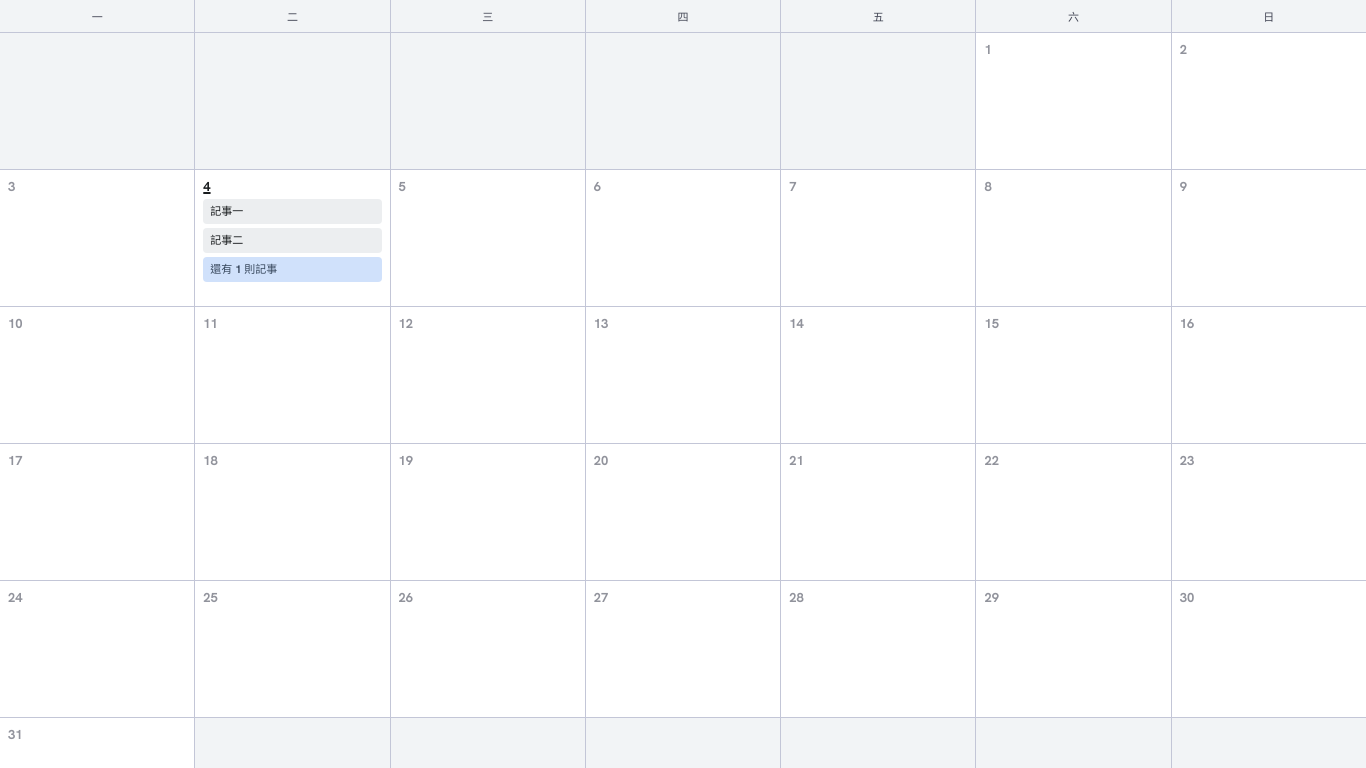
it: 溢出記事清單按鈕具備 title 提示與專屬標題類別以支援文字換行
Click the button "還有 1 則記事". click: (292, 269)
box: [203,257,382,282]
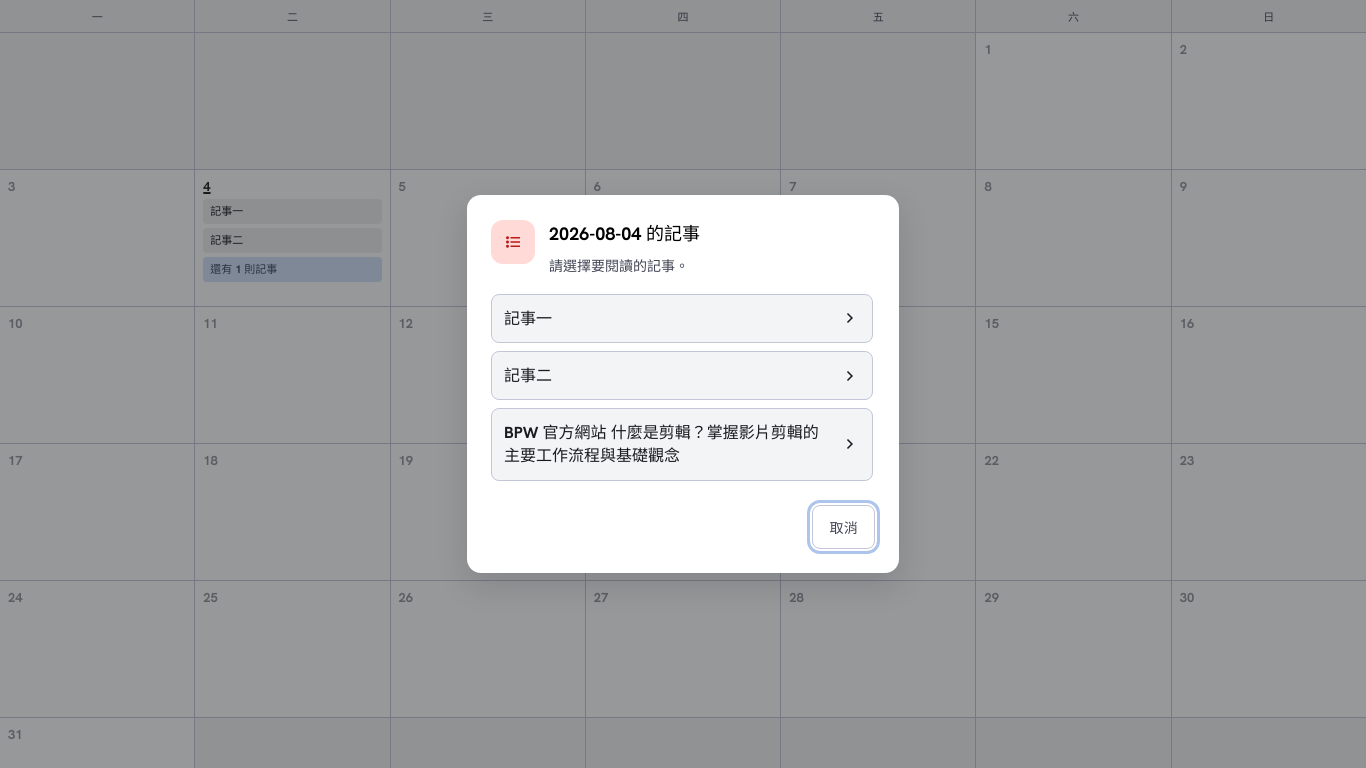
Result: the text "BPW 官方網站 什麼是剪輯？掌握影片剪輯的主要工作流程與基礎觀念" is shown at [504,421,828,468]
Result: the text with class "calendar-entry-picker__title" reads "BPW 官方網站 什麼是剪輯？掌握影片剪輯的主要工作流程與基礎觀念" at [504,422,819,466]
